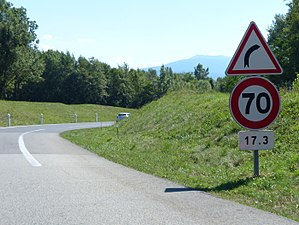Speed_limit_70km: (229, 76, 282, 130)
